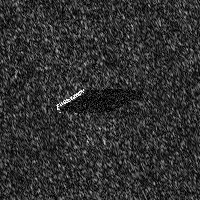mine: (54, 87, 144, 114)
